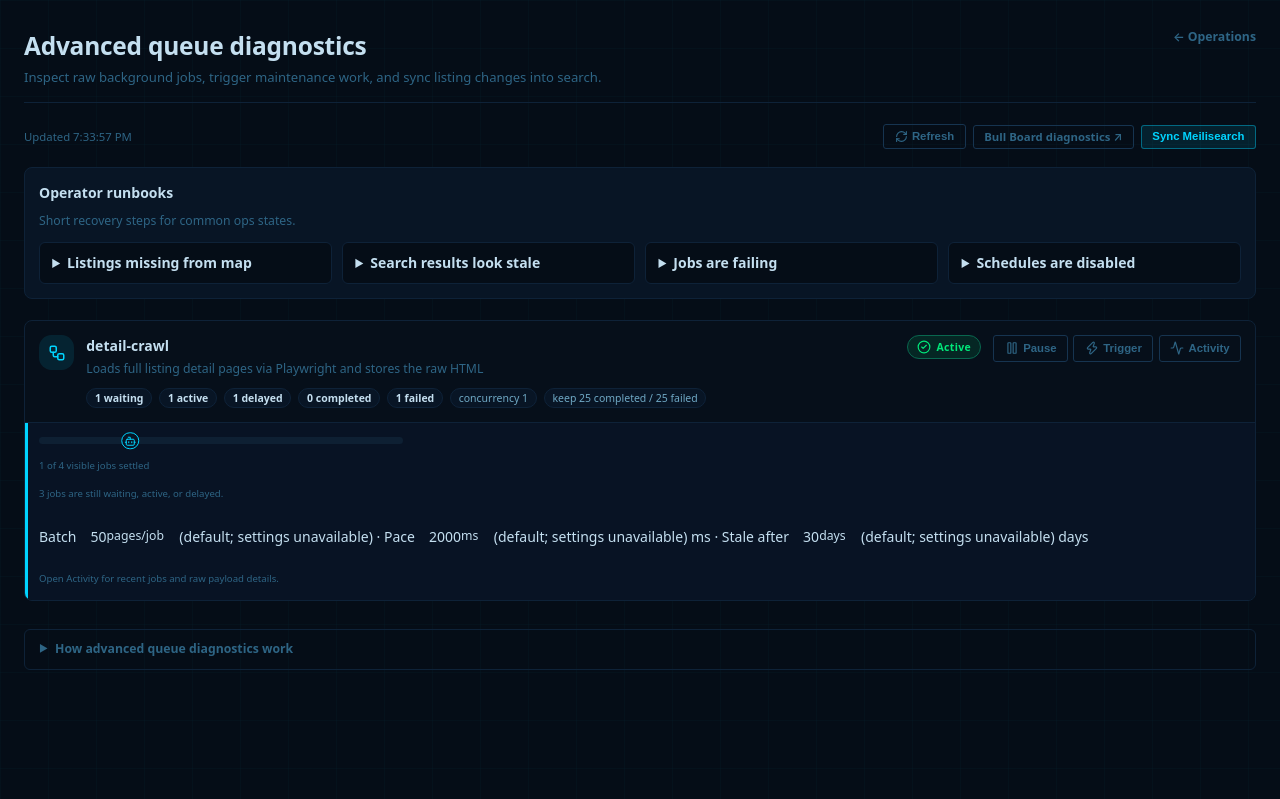
Scenario: QueuesClient per-job controls (#1152) › confirms in-page before cancelling, then posts to the guarded route
Click the button "Activity" at point(1200, 348), box x1=1159 y1=335 x2=1241 y2=362
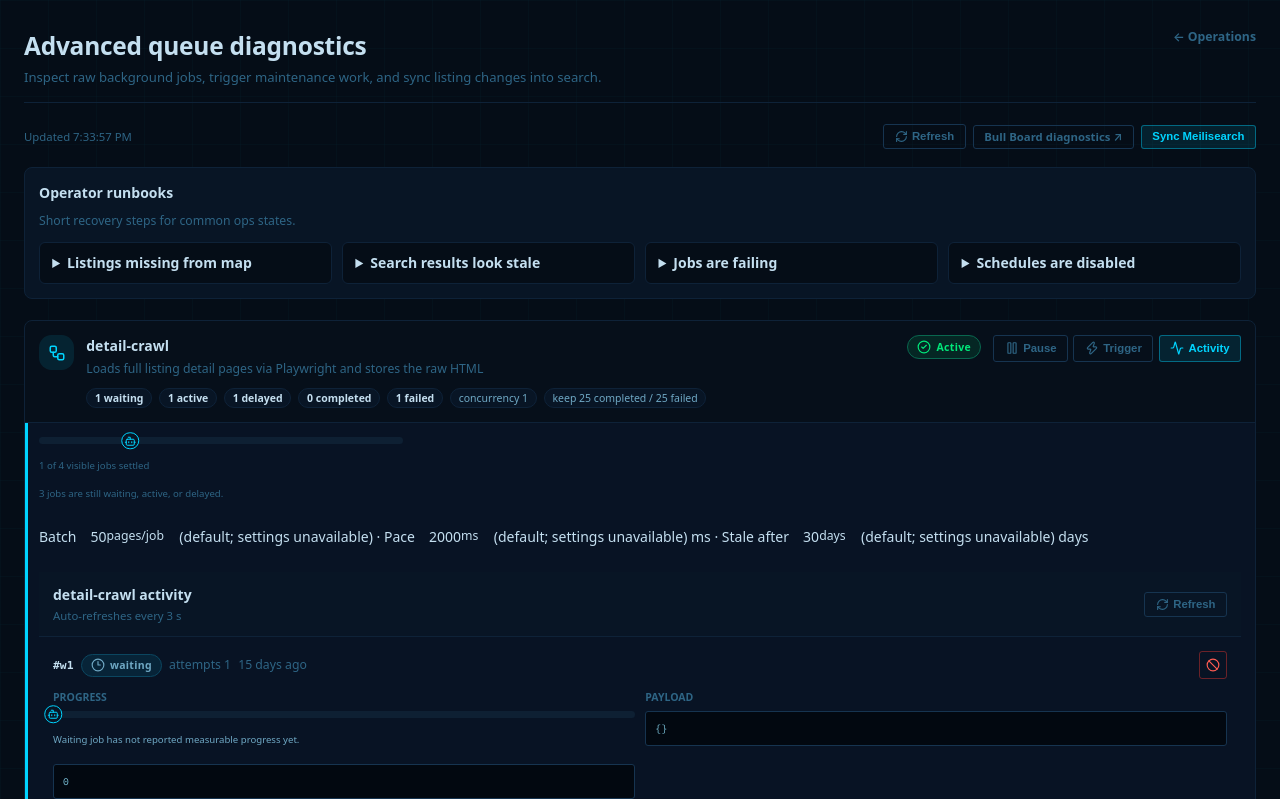
Expected: the text "#w1" is shown, x1=53 y1=657 x2=74 y2=674
Click the button named "Cancel job #w1" at point(1213, 666), box x1=1199 y1=652 x2=1227 y2=680
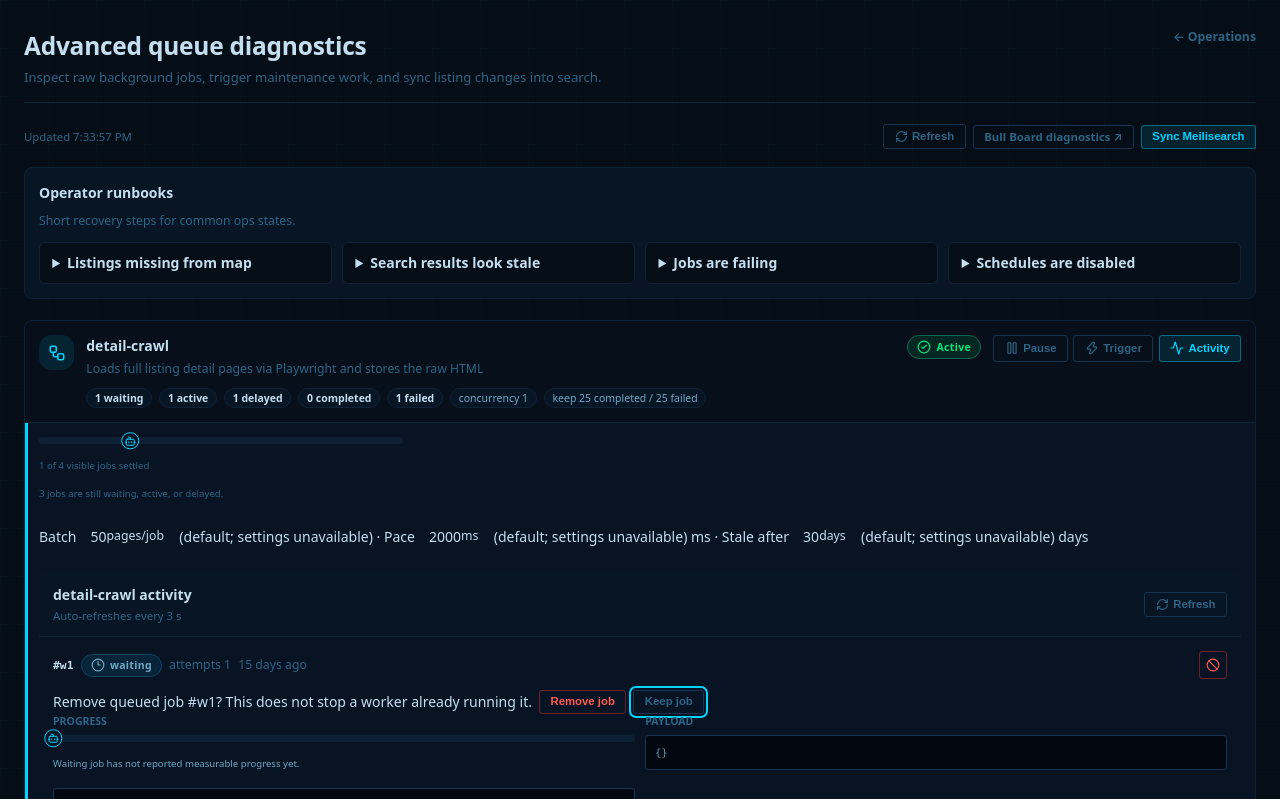
Expected: the text "does not stop a worker already running it" is shown, x1=216 y1=692 x2=532 y2=711
Click the button "Remove job" at point(583, 702), box x1=539 y1=690 x2=626 y2=714
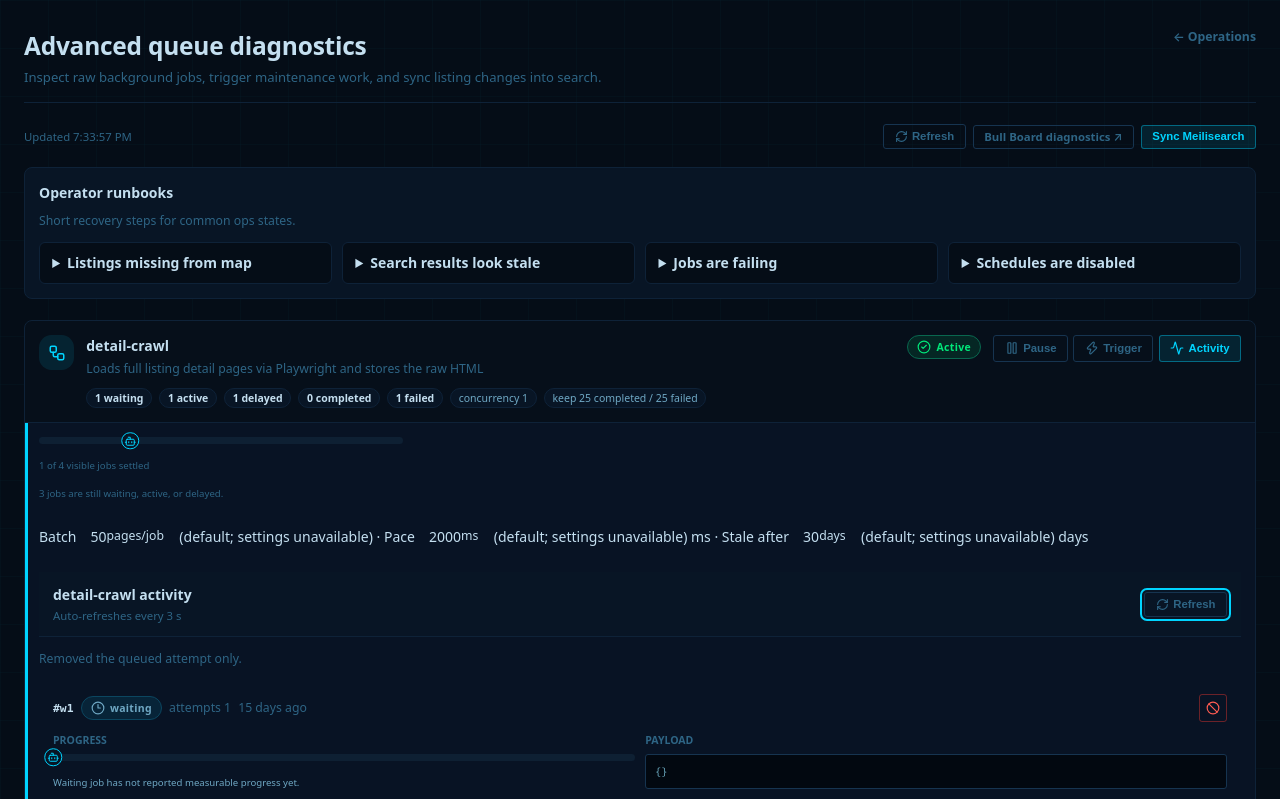
Expected: the text "Removed the queued attempt only." is shown, x1=39 y1=650 x2=242 y2=667
